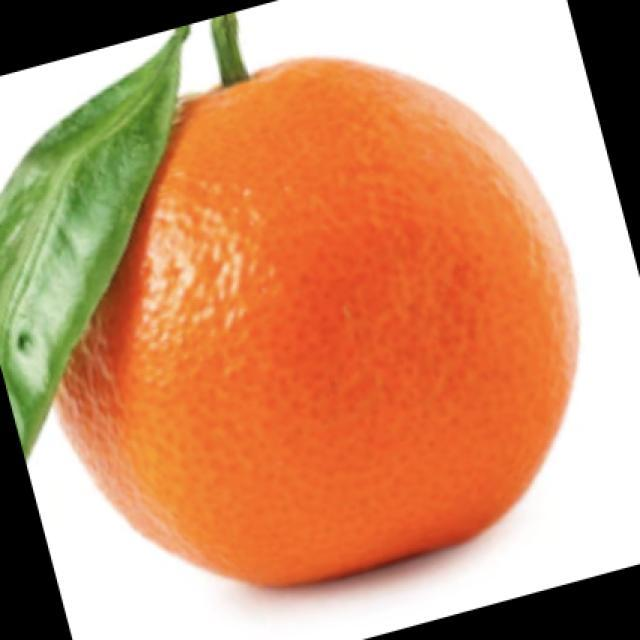matang: (58, 58, 576, 585)
